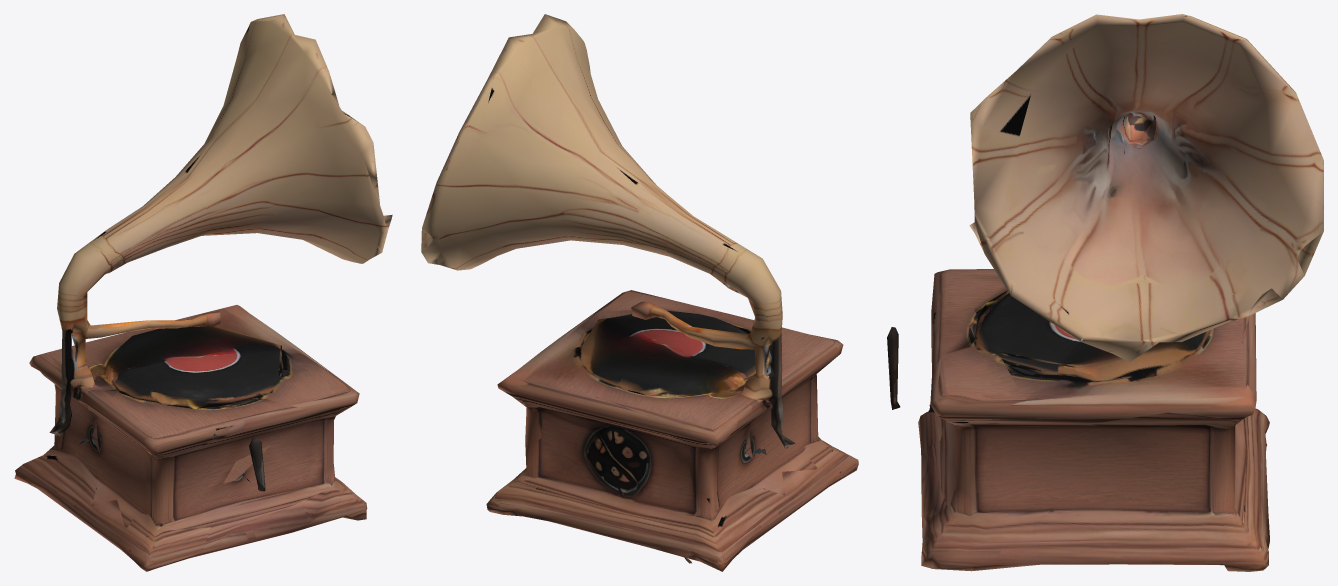
Rendered from GrammerPhone.fbx.
3 renders of one model, left to right at view 1: azimuth 30°, elevation 25°; view 2: azimuth 150°, elevation 25°; view 3: azimuth 270°, elevation 25°, orthographic. The views are drawn at different scales.
Visible parts, largest first — view 1: GrammerPhone; view 2: GrammerPhone; view 3: GrammerPhone.
Part boxes in pixels (bbox=[...]): GrammerPhone: bbox=[14, 14, 392, 571]; GrammerPhone: bbox=[421, 14, 858, 571]; GrammerPhone: bbox=[887, 14, 1323, 571].
Bounding box in the file's own units: 69.65 × 94.28 × 65.73.
Materials: 1 (1 with a texture image).
